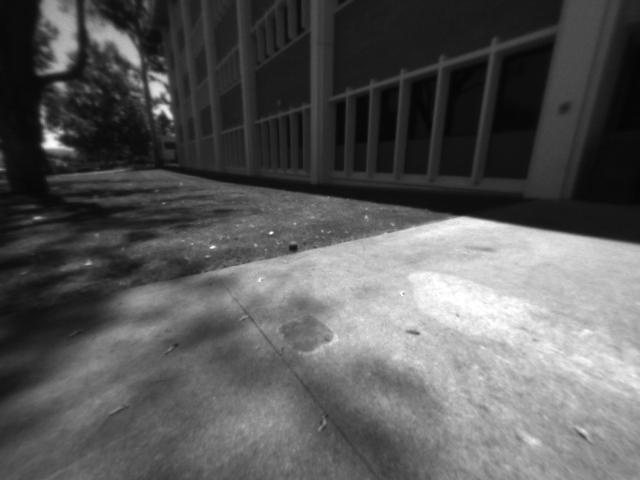dogtoy: (283, 234, 305, 253)
